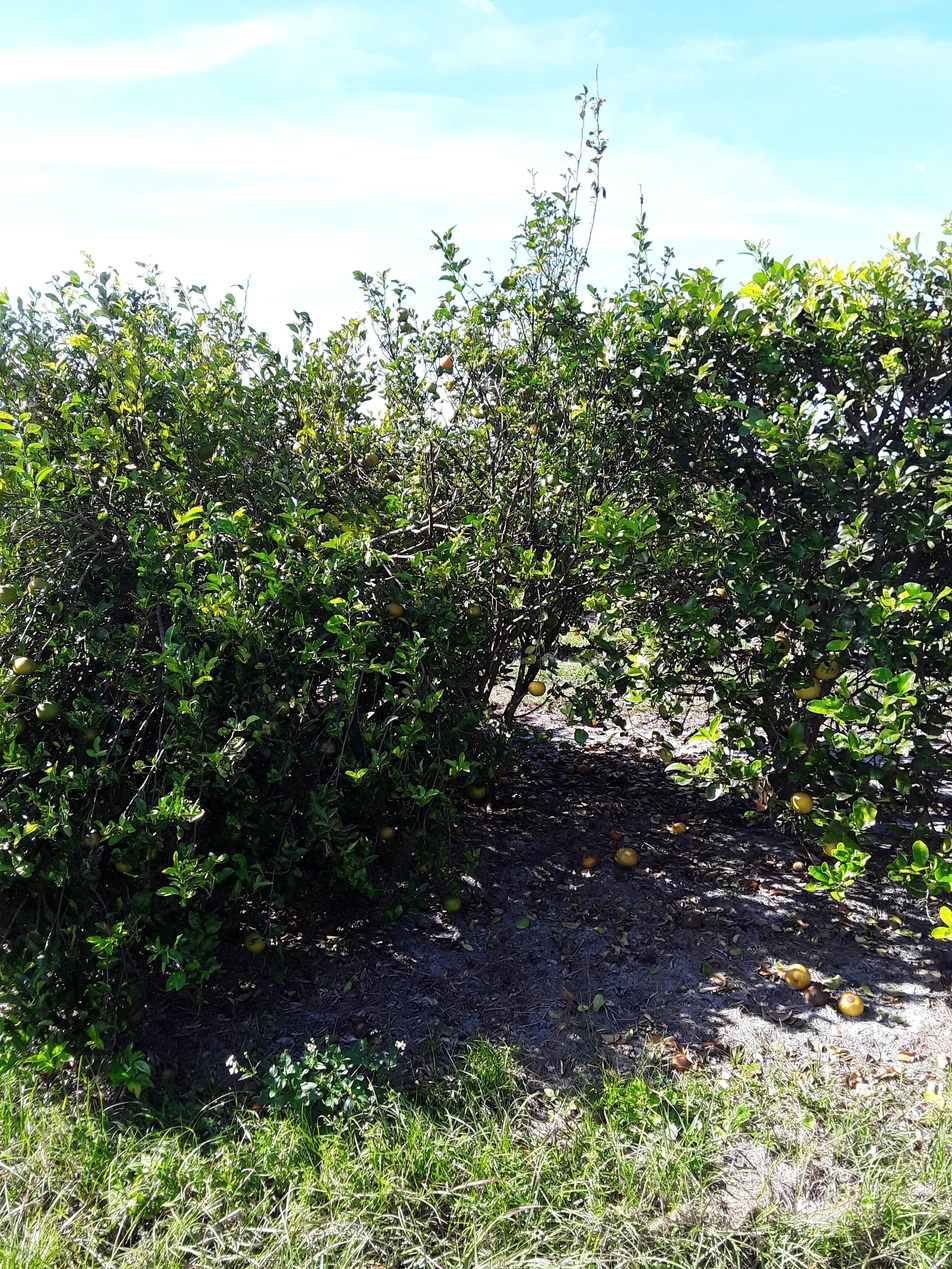fruit_on_ground: (789, 673, 822, 701), (239, 927, 270, 956), (765, 628, 793, 656), (34, 697, 62, 725), (813, 656, 842, 682), (789, 788, 816, 815), (820, 832, 846, 859), (73, 723, 101, 748), (24, 575, 52, 599), (11, 652, 37, 677), (4, 713, 28, 740), (317, 738, 341, 762), (464, 780, 488, 802), (441, 892, 463, 915), (100, 713, 122, 734), (858, 401, 879, 423), (383, 599, 406, 619), (0, 582, 19, 606), (376, 822, 398, 842), (526, 678, 547, 697), (464, 599, 483, 619), (436, 353, 455, 371), (362, 450, 381, 468), (542, 610, 560, 629), (291, 439, 311, 456), (425, 808, 443, 825), (525, 421, 541, 438), (497, 274, 513, 290), (413, 827, 430, 842), (545, 471, 560, 487), (425, 380, 440, 395), (470, 404, 485, 419), (387, 468, 402, 483), (552, 484, 568, 498), (395, 308, 409, 322), (537, 287, 550, 301), (488, 424, 501, 435), (397, 321, 410, 332), (446, 379, 457, 390), (447, 414, 458, 424)
fruit_on_tree: (781, 960, 812, 991), (836, 989, 866, 1019), (802, 982, 829, 1008), (614, 845, 641, 870), (669, 1053, 692, 1073), (580, 851, 600, 870), (670, 819, 688, 835), (451, 822, 466, 838), (608, 827, 623, 842), (791, 859, 806, 873), (598, 808, 612, 820), (577, 763, 591, 775), (582, 743, 595, 753), (564, 766, 578, 775), (536, 747, 546, 757)
